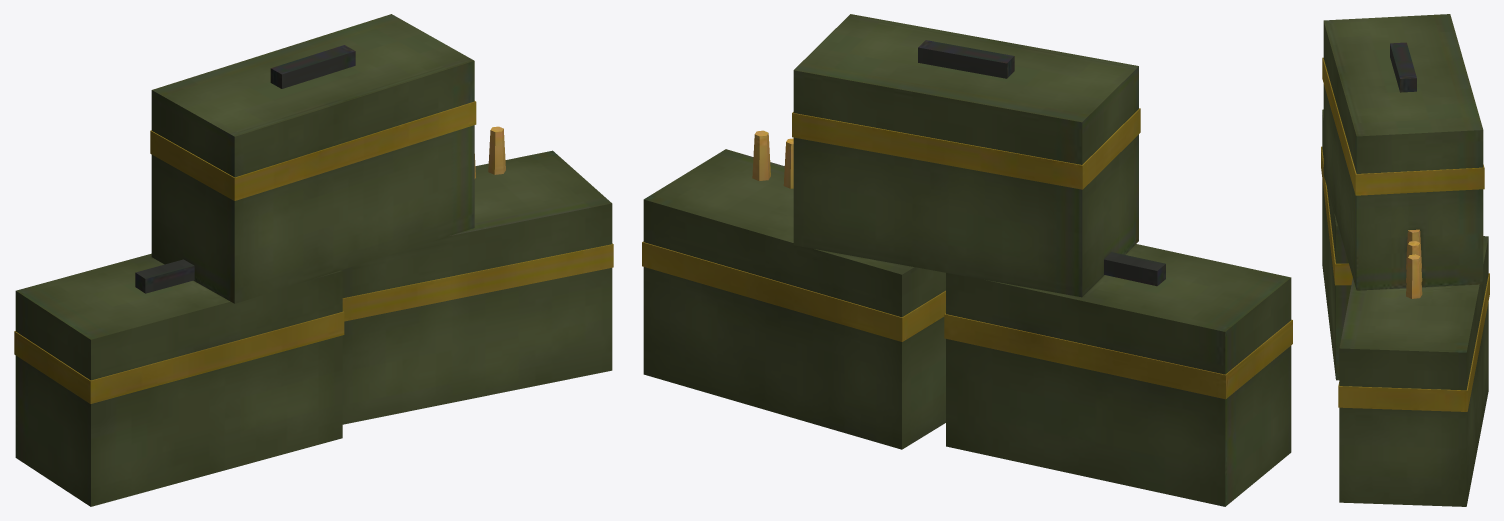
The model's file is ammo_boxes.glb.
The picture shows the model from 3 angles, left to right: view 1: azimuth 30°, elevation 25°; view 2: azimuth 150°, elevation 25°; view 3: azimuth 270°, elevation 25°; orthographic projection. The views are drawn at different scales.
Parts seen in each view (by area): view 1: body, lid; view 2: body, lid; view 3: body, lid.
Boxes of the visible parts, <box> form: body: <box>14,126,613,506</box>; lid: <box>150,14,476,204</box>; body: <box>642,130,1292,506</box>; lid: <box>792,14,1140,193</box>; body: <box>1321,84,1489,506</box>; lid: <box>1322,14,1484,198</box>.
Size of the model in its own units: 0.5493 by 0.335 by 0.1587.
Materials: 5 (3 with a texture image).
